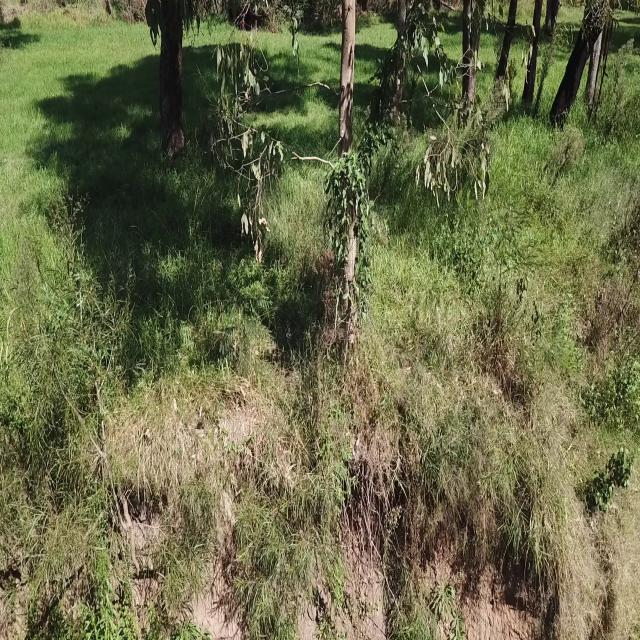Mysore-Thorn-Weed: (211, 248, 272, 366)
